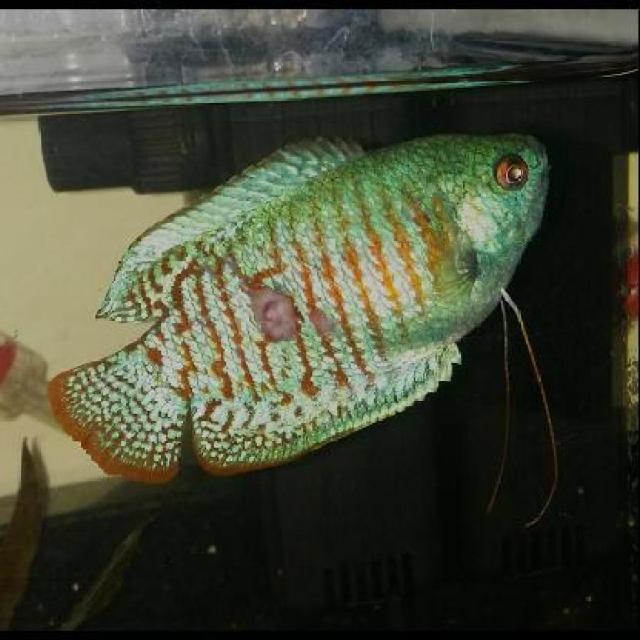Gourami: (44, 116, 556, 478)
